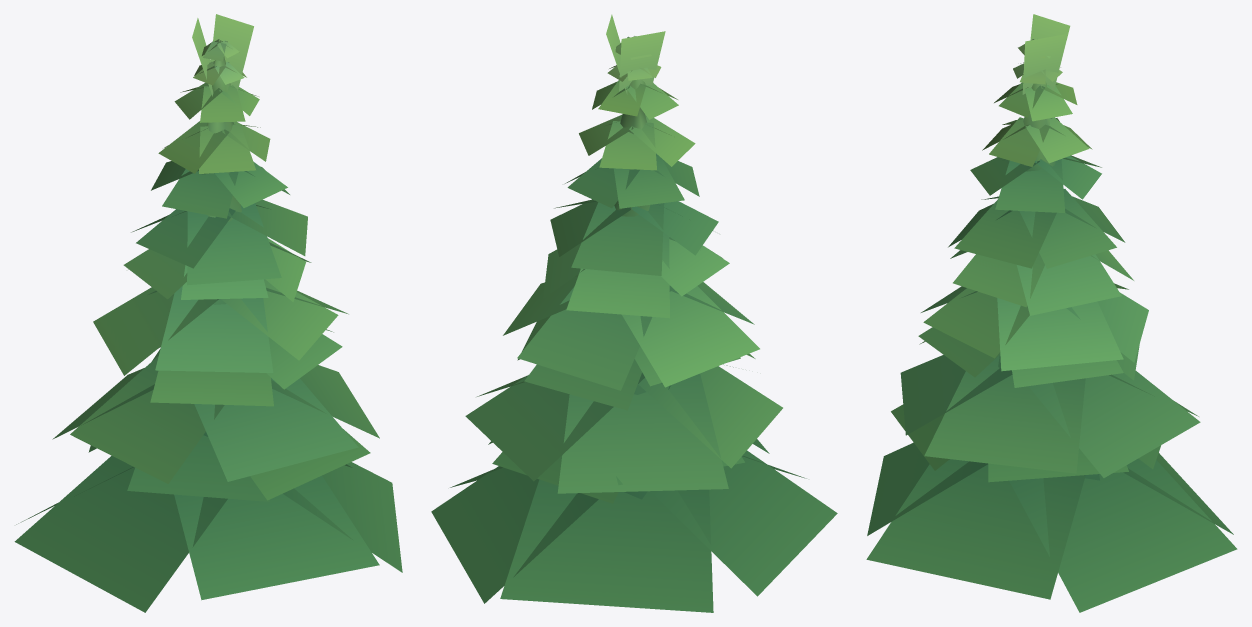
Rendered from veg_wild_pine_lite.glb.
3 renders of one model, left to right at view 1: azimuth 30°, elevation 25°; view 2: azimuth 150°, elevation 25°; view 3: azimuth 270°, elevation 25°, orthographic. The views are drawn at different scales.
Parts seen in each view (by area): view 1: SM_scatter_veg_leaf_clip_x0_z0_raw.009; view 2: SM_scatter_veg_leaf_clip_x0_z0_raw.009; view 3: SM_scatter_veg_leaf_clip_x0_z0_raw.009.
Part boxes in pixels (left/top/right/bottom): SM_scatter_veg_leaf_clip_x0_z0_raw.009: left=14, top=14, right=402, bottom=612; SM_scatter_veg_leaf_clip_x0_z0_raw.009: left=431, top=14, right=837, bottom=612; SM_scatter_veg_leaf_clip_x0_z0_raw.009: left=866, top=14, right=1237, bottom=612.
Bounding box in the file's own units: 2.83 × 4.19 × 2.72.
